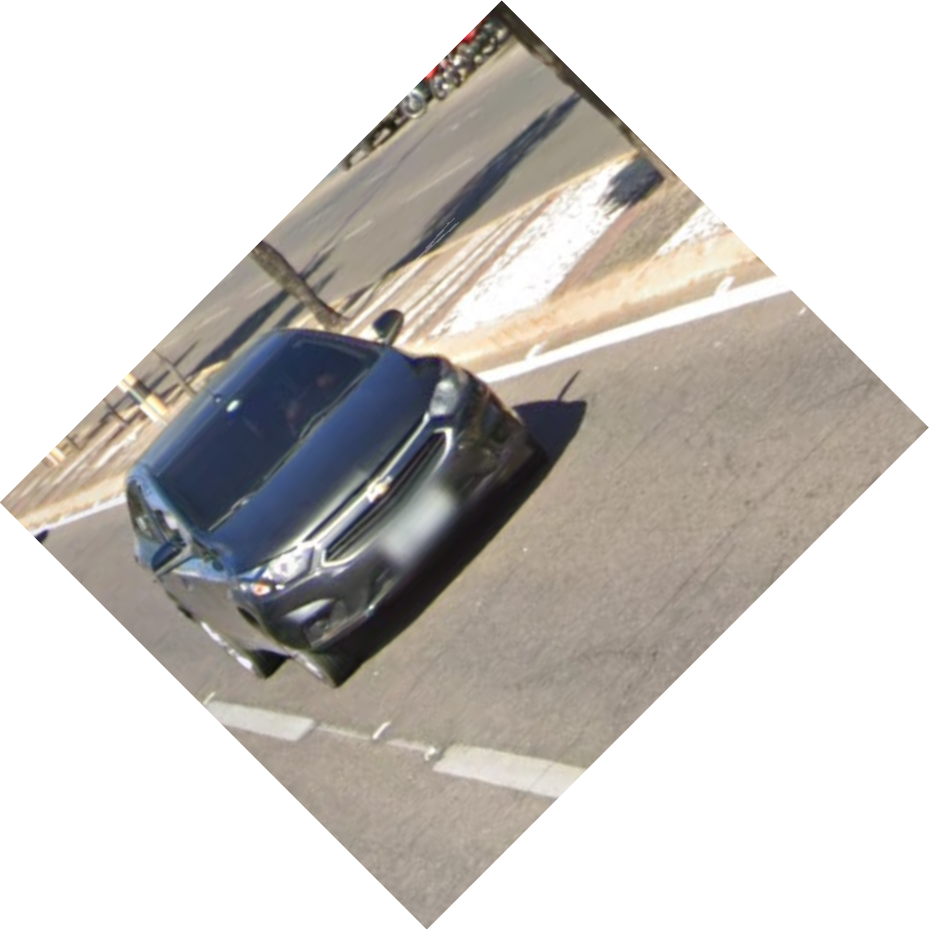car: (119, 305, 553, 703)
